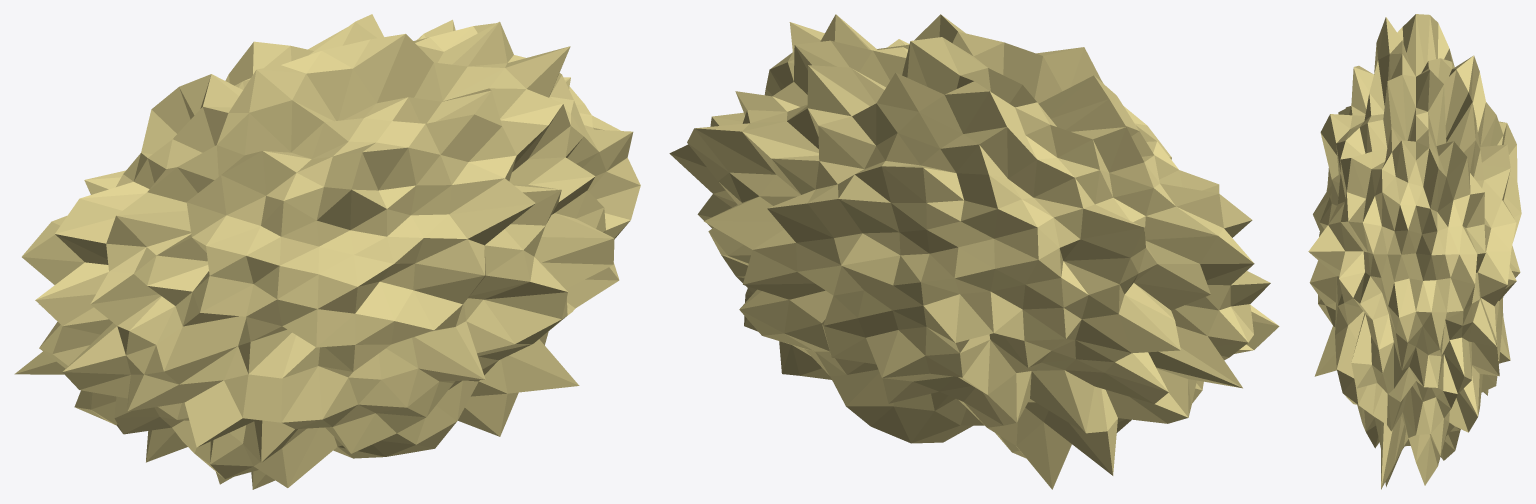
The model's file is dranmar_debridement_fragment.glb.
The picture shows the model from 3 angles, left to right: view 1: azimuth 30°, elevation 25°; view 2: azimuth 150°, elevation 25°; view 3: azimuth 270°, elevation 25°; orthographic projection. The views are drawn at different scales.
Visible parts, largest first — view 1: debridement_fragment; view 2: debridement_fragment; view 3: debridement_fragment.
Part boxes in pixels (x1,y1,x2,y2): debridement_fragment: (14,14,640,489); debridement_fragment: (669,14,1279,489); debridement_fragment: (1308,14,1521,489).
Bounding box in the file's own units: 0.0119 × 0.00814 × 0.00415.
